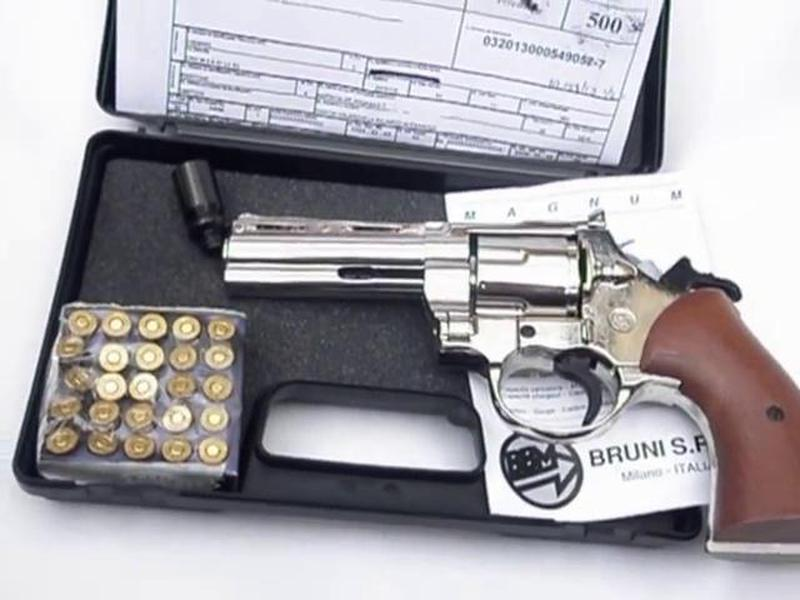Revolver: (215, 143, 800, 532)
